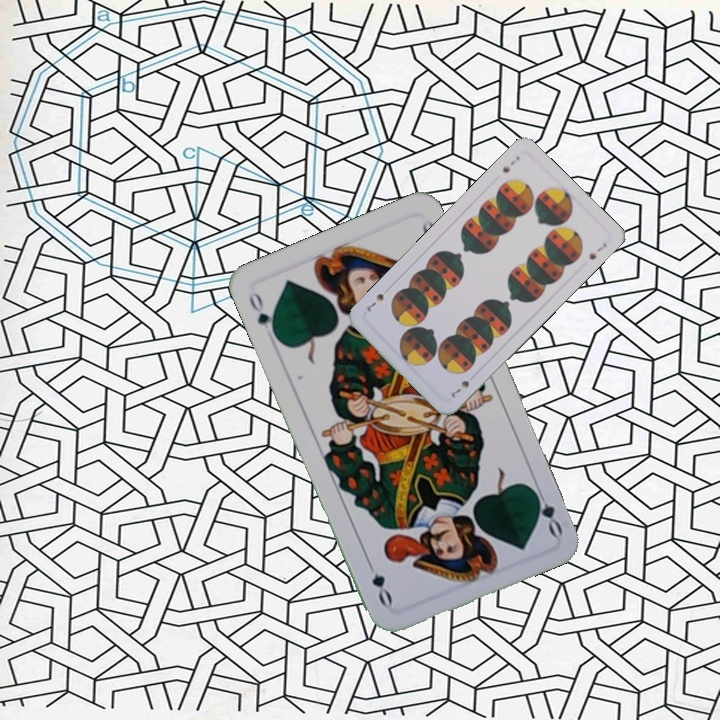GO: (528, 482, 566, 539), (245, 287, 280, 341)
S7: (447, 376, 472, 400), (498, 151, 522, 175)
